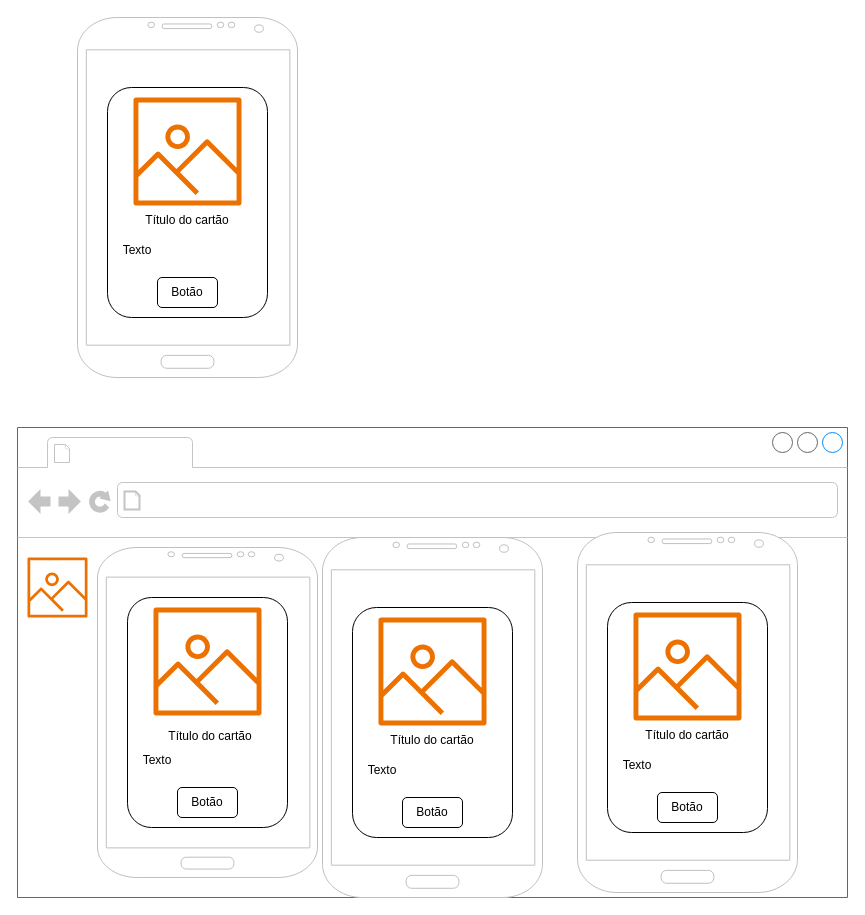
This 865x915 diagram has some shape labels left out. Each missing label, with the centre of its shape:
https://www.draw.io: pixel 272 500
Page 1: pixel 132 452
